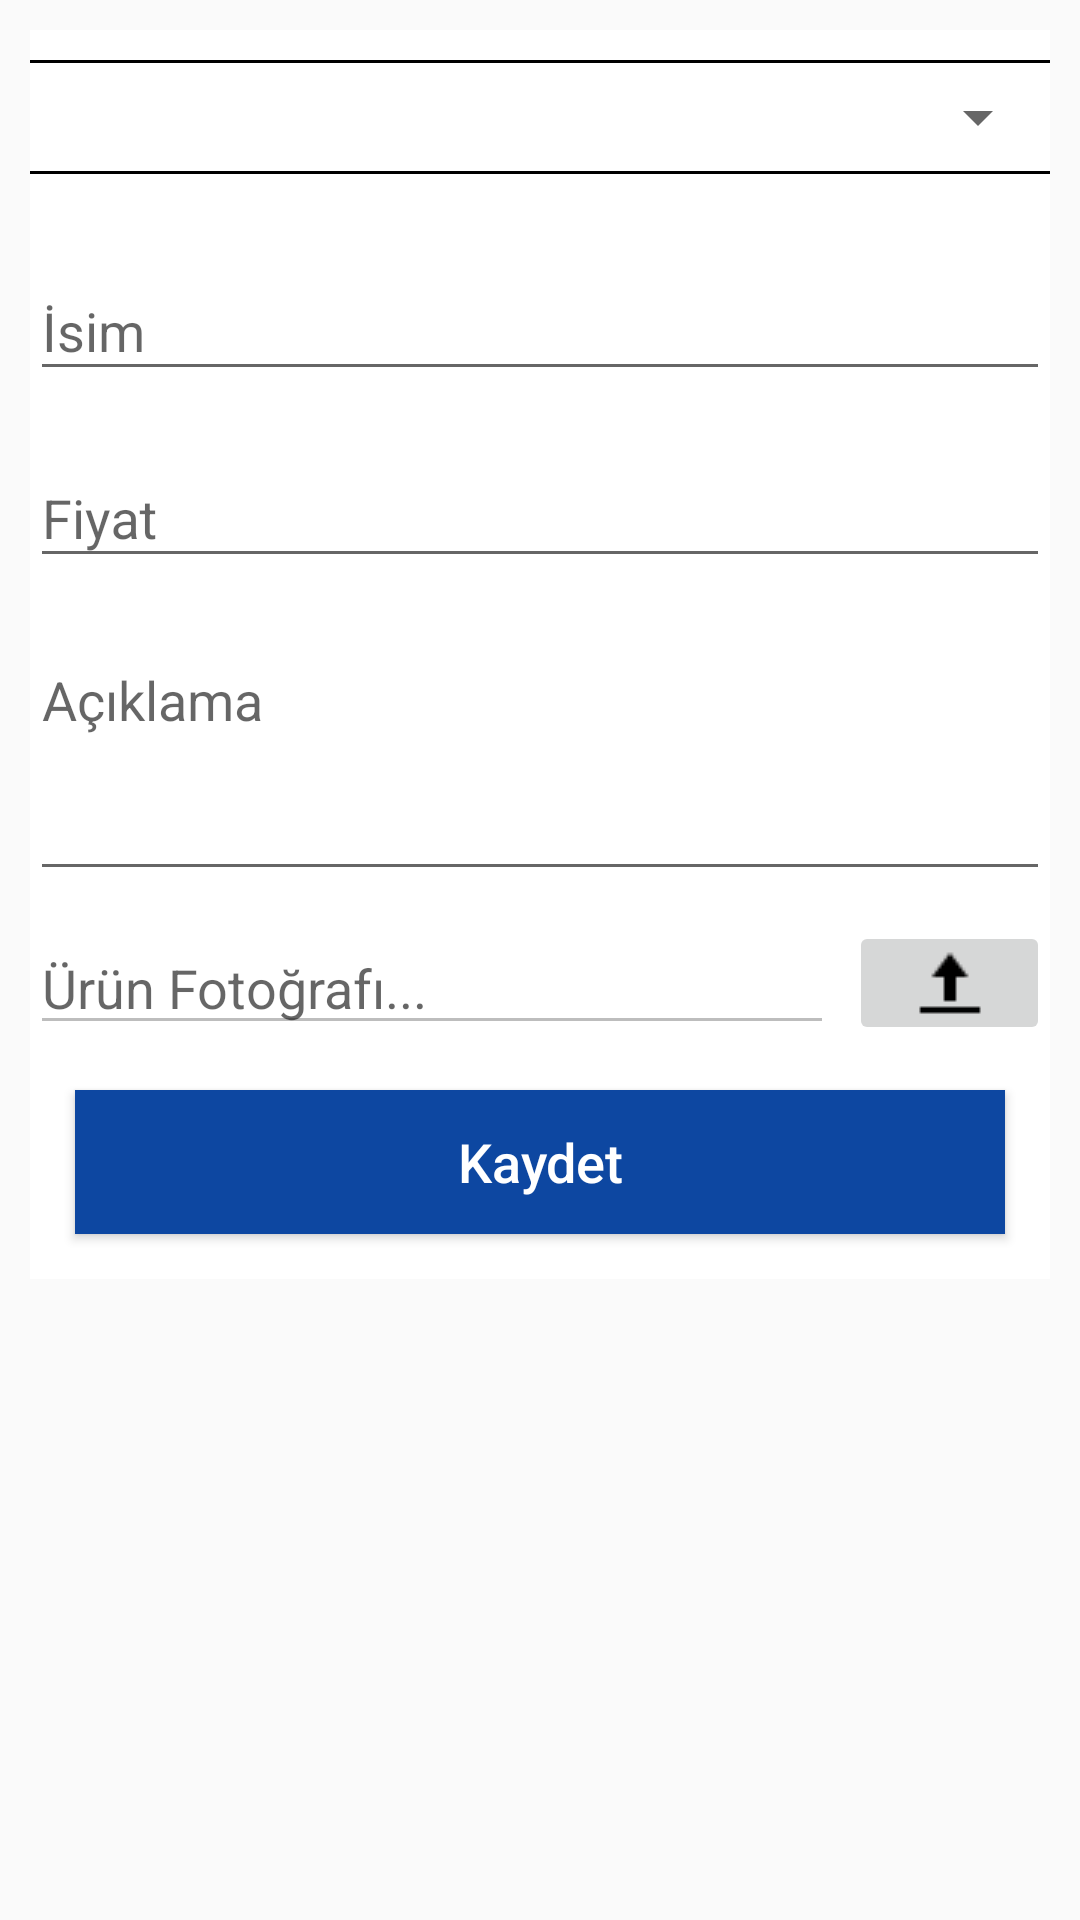

Icons on this 1080×1920 Android screen, each with its box as (x1, y1, x2, y2):
upload: (861, 939, 1038, 1027)
